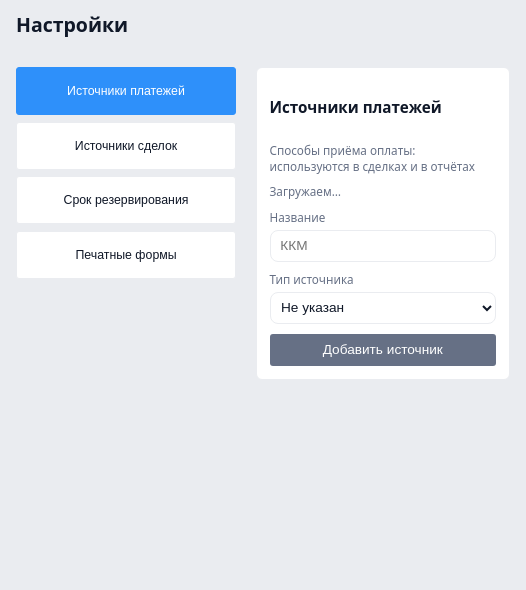
срок резервирования в настройках › кнопка не молчит: пока срок не изменён, сказано почему
Step 1. Click the button "Срок резервирования" → (126, 200), box [16,176,236,224]
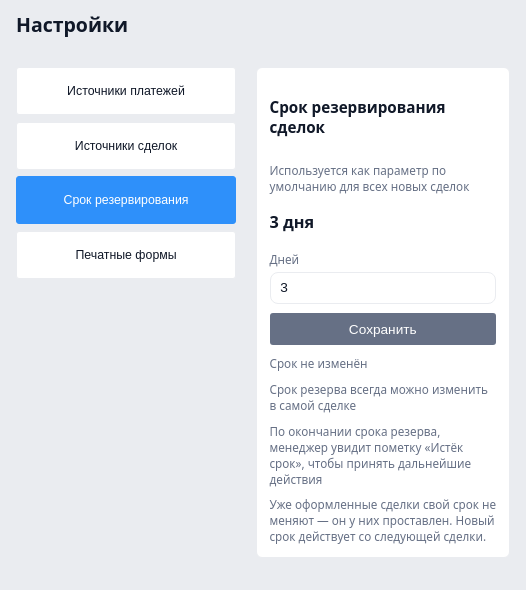
Check: the button "Сохранить" is disabled, box [270,313,496,345]
Check: the text "3 дня" is shown, box [270,211,314,233]
Check: the text "Срок не изменён" is shown, box [270,355,368,371]
Step 2. Replace the text in the number field labelled "Дней" with "0" → (383, 288), box [270,272,496,304]
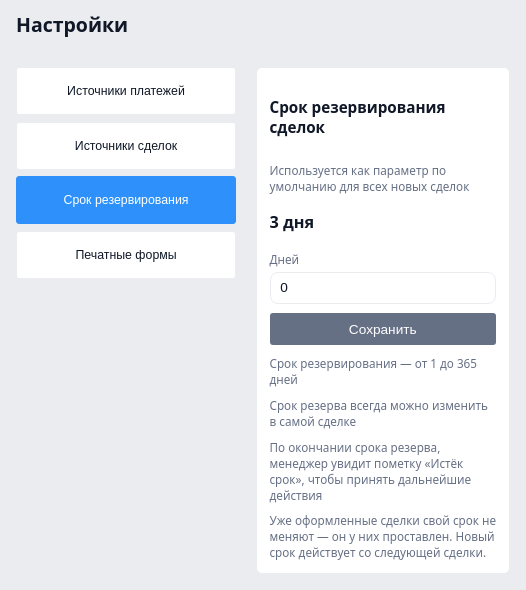
Check: the button "Сохранить" is disabled, box [270,313,496,345]
Check: the text "Срок резервирования — от 1 до 365 дней" is shown, box [270,355,496,387]
